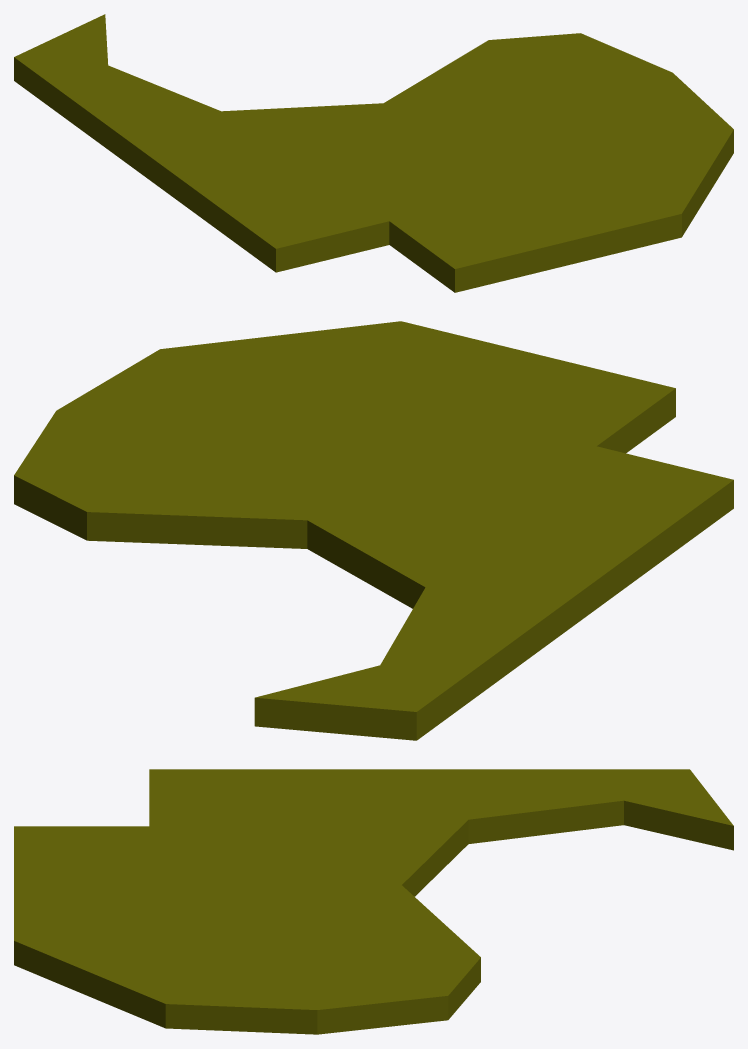
File: x_0_boloto_31_1_rmstrd.fbx
3 renders of one model, top to bottom at view 1: azimuth 30°, elevation 25°; view 2: azimuth 150°, elevation 25°; view 3: azimuth 270°, elevation 25°, orthographic. The views are drawn at different scales.
Parts seen in each view (by area): view 1: x_0_boloto_31_1_rmstrd1; view 2: x_0_boloto_31_1_rmstrd1; view 3: x_0_boloto_31_1_rmstrd1.
Boxes of the visible parts, <box> form: x_0_boloto_31_1_rmstrd1: <box>14,14,733,292</box>; x_0_boloto_31_1_rmstrd1: <box>14,321,733,740</box>; x_0_boloto_31_1_rmstrd1: <box>14,769,733,1034</box>.
Size of the model in its own units: 4.21 by 0.2 by 5.33.
